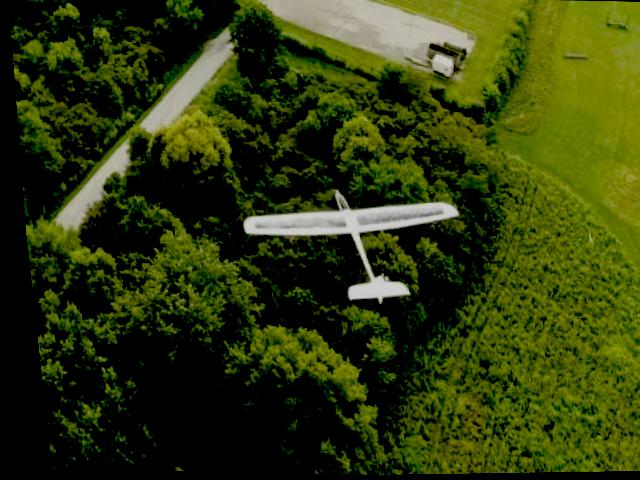uav: (223, 174, 470, 321)
